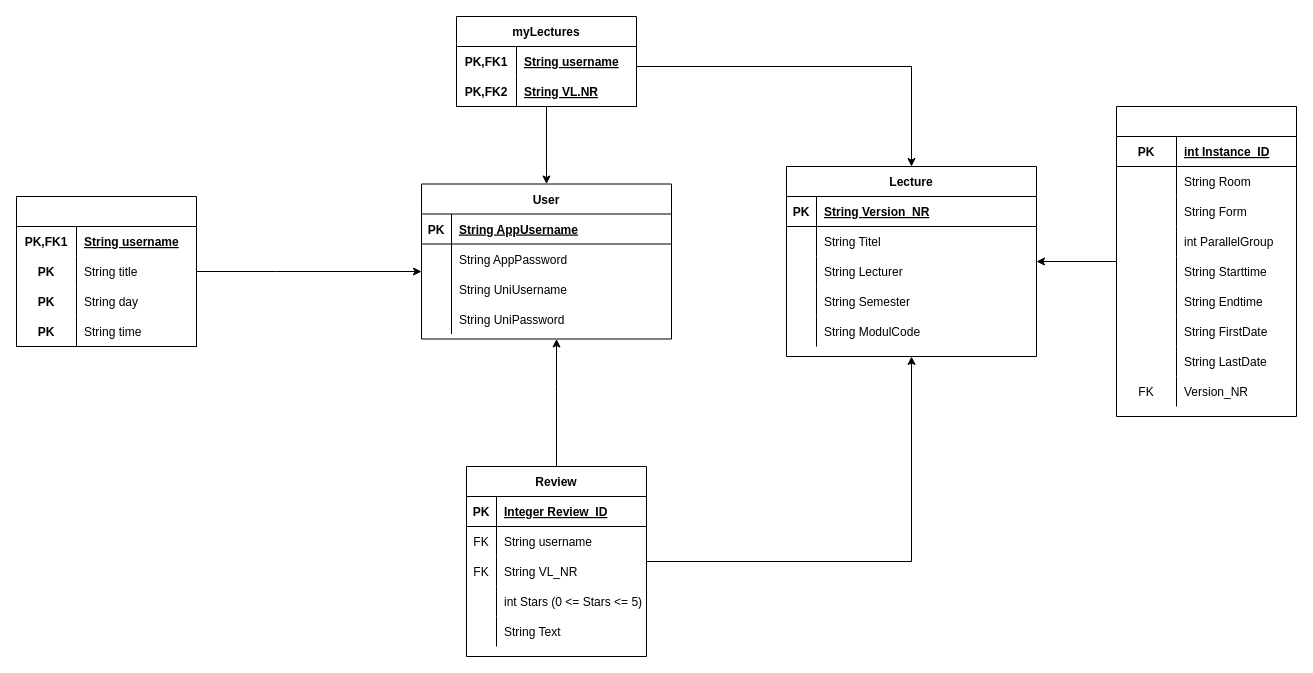
Some shapes in this 1313 by 673 pixel diagram are drawn without their labels. Here are the shapes that lost their labels. From the top down, the box of each, then its label:
(16, 196, 196, 346): pinnedEvents
(1116, 106, 1296, 416): LectureInstance
